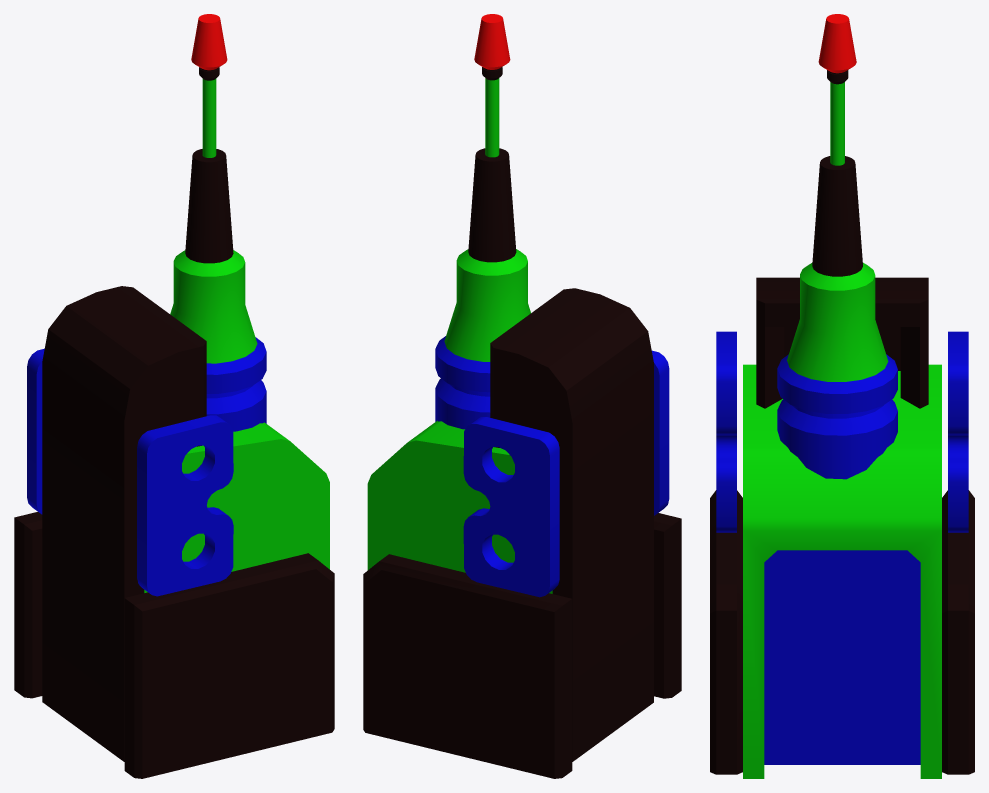
The model's file is SM_BridgeCheckpoint01.FBX.
3 views of the same model, side by side, from view 1: azimuth 30°, elevation 25°; view 2: azimuth 150°, elevation 25°; view 3: azimuth 270°, elevation 25° (orthographic). The views are drawn at different scales.
Parts seen in each view (by area): view 1: Object008; view 2: Object008; view 3: Object008.
Boxes of the visible parts, box(x1,y1,x2,y2) form: Object008: box(14, 14, 334, 778); Object008: box(363, 14, 681, 778); Object008: box(710, 14, 974, 778).
Bounding box in the file's own units: 382 × 1199 × 399.
